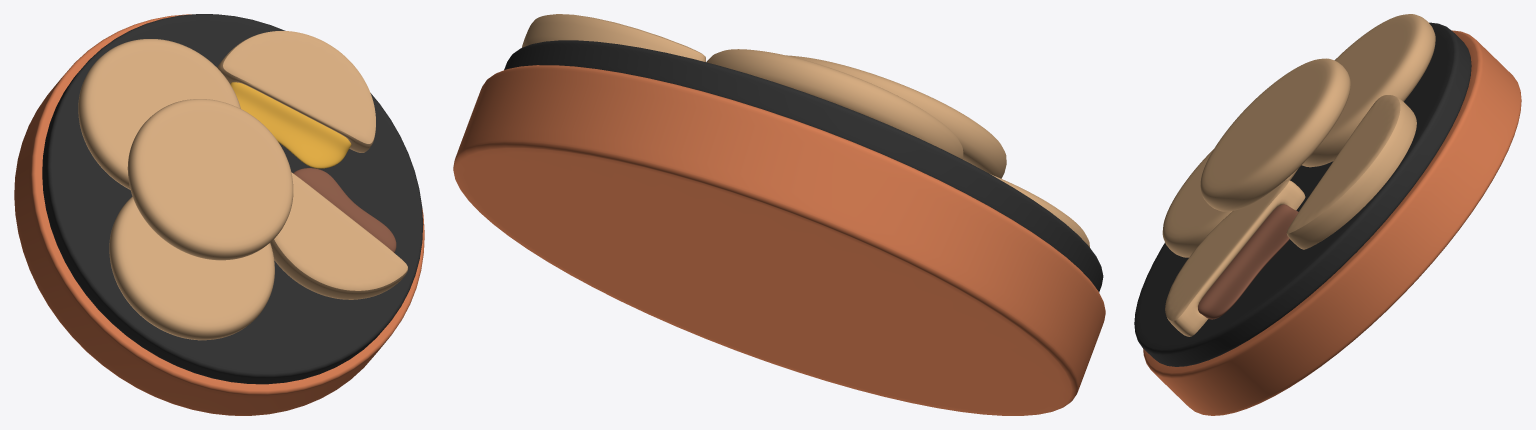
Rendered from hoeddeok.glb.
3 views of the same model, side by side, from view 1: azimuth 30°, elevation 25°; view 2: azimuth 150°, elevation 25°; view 3: azimuth 270°, elevation 25° (orthographic). The views are drawn at different scales.
Visible parts, largest first — view 1: Cylinder.165, Circle.017, Cylinder.164, Circle.014, Circle.015, Circle.019, Circle.018, Circle.020, Circle.016; view 2: Cylinder.164, Cylinder.165, Circle.015, Circle.017, Circle.019, Circle.014; view 3: Cylinder.164, Cylinder.165, Circle.017, Circle.019, Circle.015, Circle.018, Circle.016, Circle.014.
Boxes of the visible parts, x1,y1,x2,y2 form: Cylinder.165: [42, 14, 423, 384]; Circle.017: [127, 99, 293, 260]; Cylinder.164: [14, 14, 424, 415]; Circle.014: [109, 197, 274, 340]; Circle.015: [78, 39, 240, 189]; Circle.019: [217, 31, 375, 152]; Circle.018: [270, 172, 407, 299]; Circle.020: [230, 82, 351, 168]; Circle.016: [293, 168, 396, 252]; Cylinder.164: [453, 65, 1105, 415]; Cylinder.165: [504, 40, 1103, 292]; Circle.015: [706, 49, 963, 159]; Circle.017: [786, 55, 1006, 178]; Circle.019: [522, 14, 705, 61]; Circle.014: [990, 174, 1089, 247]; Cylinder.164: [1143, 30, 1521, 415]; Cylinder.165: [1134, 22, 1471, 366]; Circle.017: [1200, 58, 1350, 211]; Circle.019: [1286, 95, 1416, 249]; Circle.015: [1302, 14, 1435, 167]; Circle.018: [1165, 180, 1305, 336]; Circle.016: [1198, 204, 1298, 319]; Circle.014: [1162, 149, 1298, 257].
Size of the model in its own units: 2.73 by 2.18 by 2.28.
